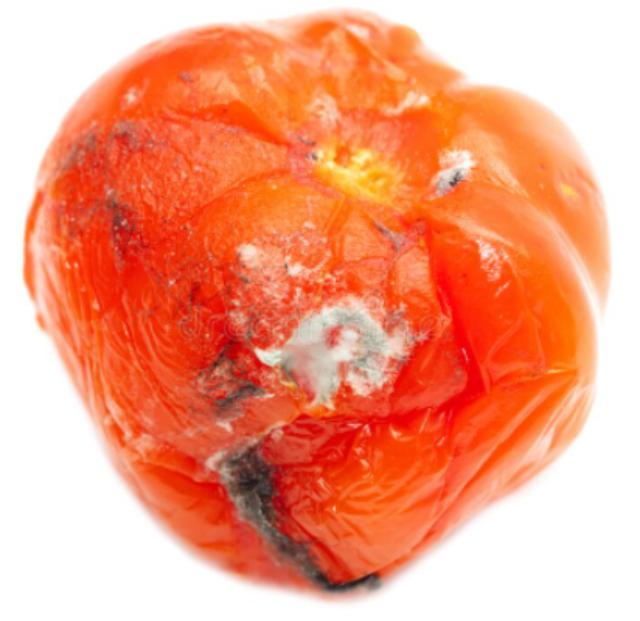defect: (16, 5, 616, 605)
